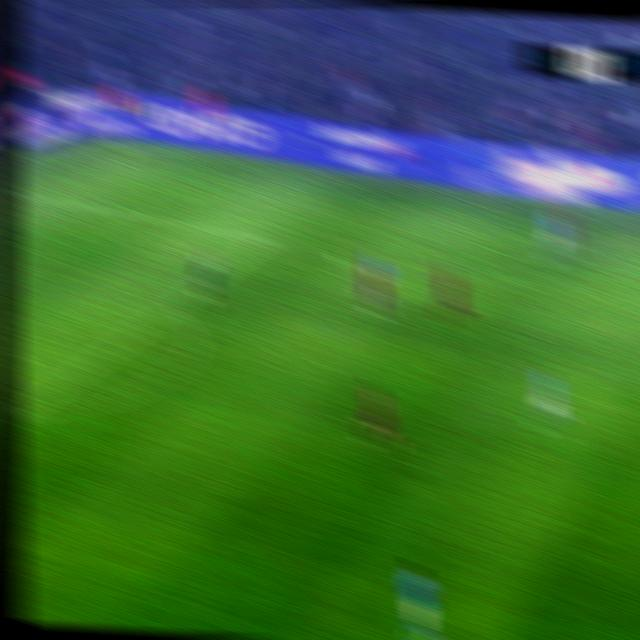bigarea_top_inner: (250, 224, 278, 254)
bottom_arc_area_intersection: (9, 398, 36, 432)
corner: (100, 131, 131, 157)
top_arc_area_intersection: (155, 294, 186, 323)
